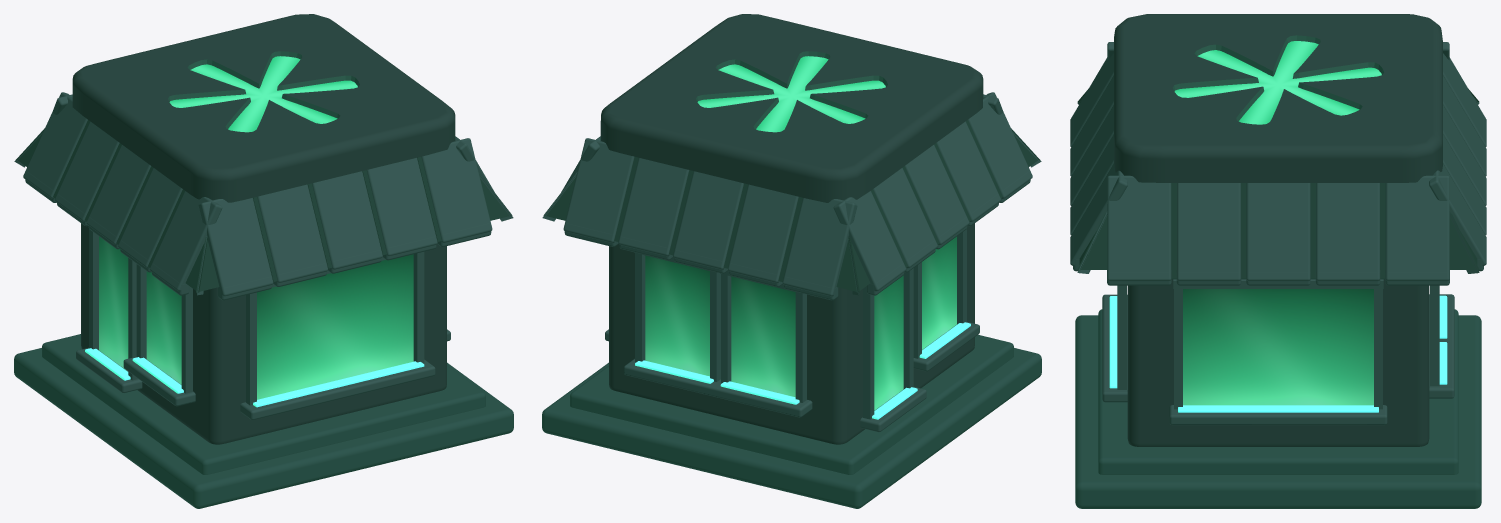
Rendered from commerce.glb.
3 views of the same model, side by side, from view 1: azimuth 30°, elevation 25°; view 2: azimuth 150°, elevation 25°; view 3: azimuth 270°, elevation 25° (orthographic). The views are drawn at different scales.
Visible parts, largest first — view 1: storefront_body, storefront_windows, roof_dinkus_star; view 2: storefront_body, storefront_windows, roof_dinkus_star; view 3: storefront_body, storefront_windows, roof_dinkus_star.
Part boxes in pixels (<box>): storefront_body: <box>14,14,513,508</box>; storefront_windows: <box>99,236,413,399</box>; roof_dinkus_star: <box>85,56,424,407</box>; storefront_body: <box>542,14,1041,508</box>; storefront_windows: <box>645,236,956,410</box>; roof_dinkus_star: <box>635,56,970,419</box>; storefront_body: <box>1070,14,1486,508</box>; storefront_windows: <box>1183,289,1373,405</box>; roof_dinkus_star: <box>1109,41,1447,412</box>.
Size of the model in its own units: 1.99 by 1.82 by 1.99.
8 materials, 2 textured.
